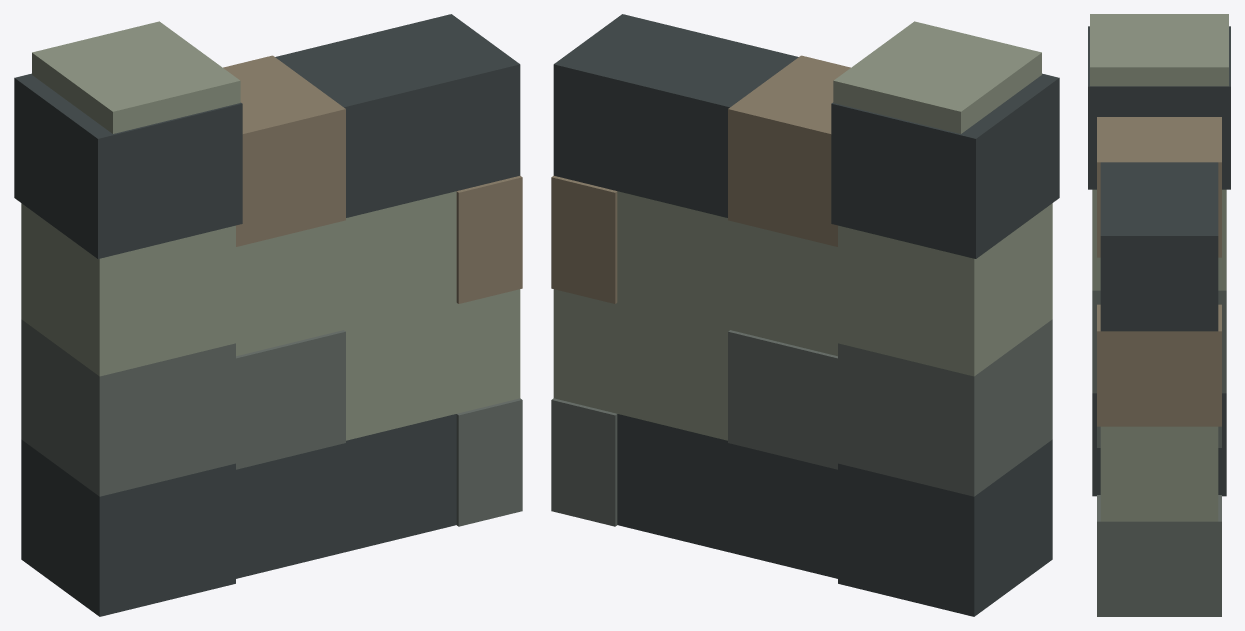
Rendered from TW_STONE_WALL_1M_B_LOD0.glb.
The picture shows the model from 3 angles, left to right: view 1: azimuth 30°, elevation 25°; view 2: azimuth 150°, elevation 25°; view 3: azimuth 270°, elevation 25°; orthographic projection. The views are drawn at different scales.
Parts seen in each view (by area): view 1: TW_STONE_WALL_1M_B_LOD0; view 2: TW_STONE_WALL_1M_B_LOD0; view 3: TW_STONE_WALL_1M_B_LOD0.
Boxes of the visible parts, left/top/right/bottom form: TW_STONE_WALL_1M_B_LOD0: left=14, top=14, right=522, bottom=616; TW_STONE_WALL_1M_B_LOD0: left=551, top=14, right=1059, bottom=616; TW_STONE_WALL_1M_B_LOD0: left=1088, top=14, right=1230, bottom=616.
Size of the model in its own units: 1.01 by 1.13 by 0.34.
1 material, 1 textured.
